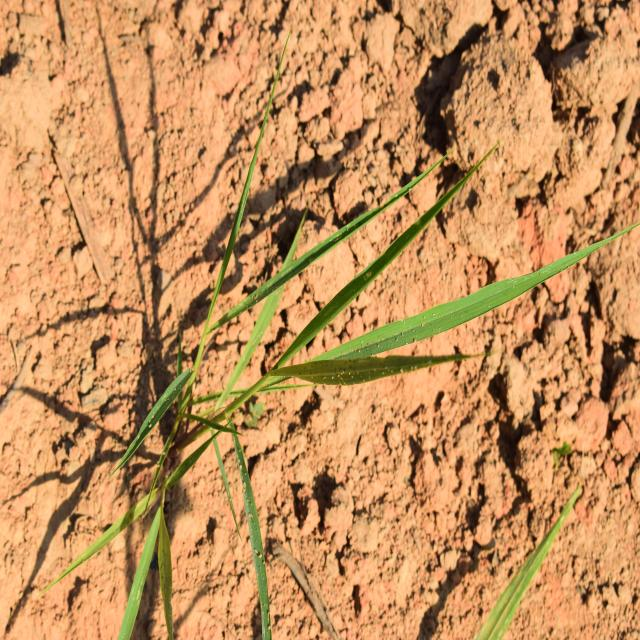green_foxtail: (159, 164, 512, 440)
